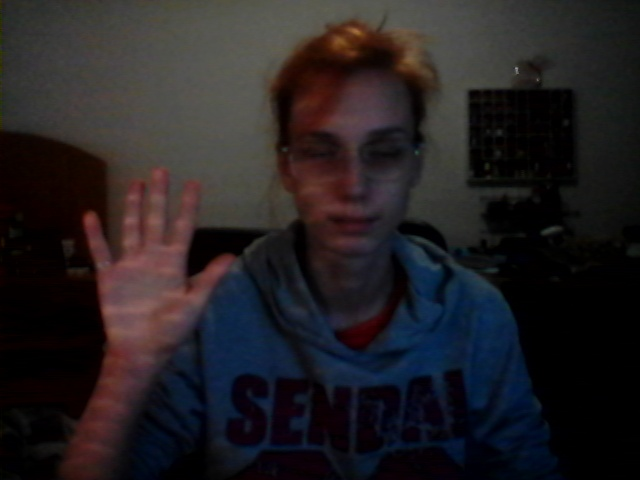ahoj: (73, 165, 239, 350)
